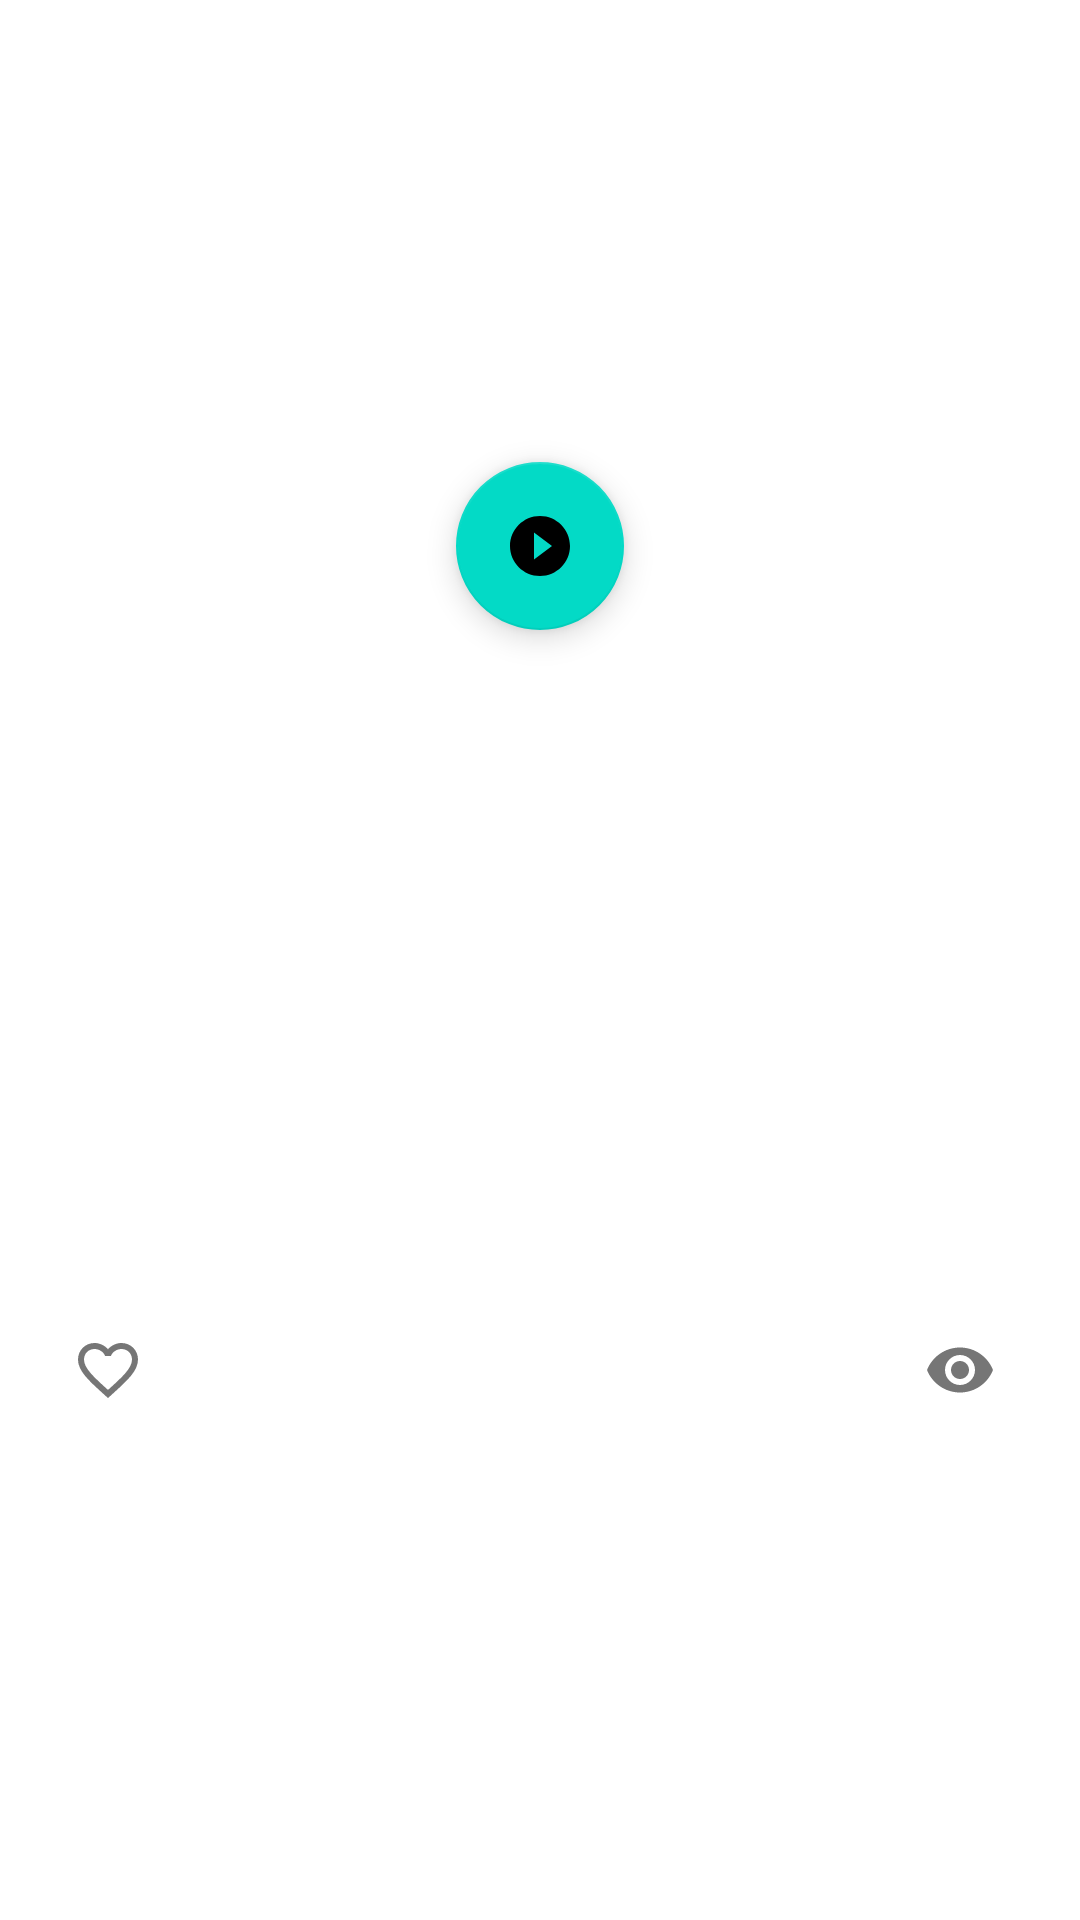

Where to tap for icons on this 1080w x 1920h app screen, as point (x, y):
Like: point (108, 1370)
Views: point (960, 1370)
